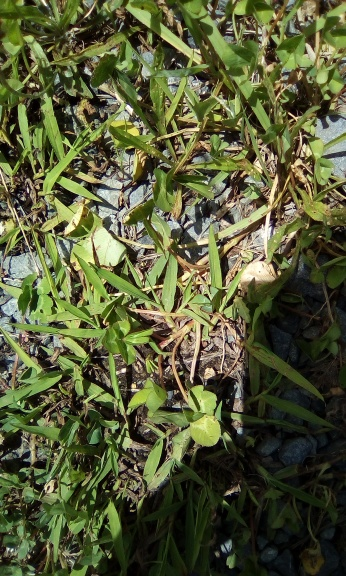4leaf: (101, 320, 156, 366)
